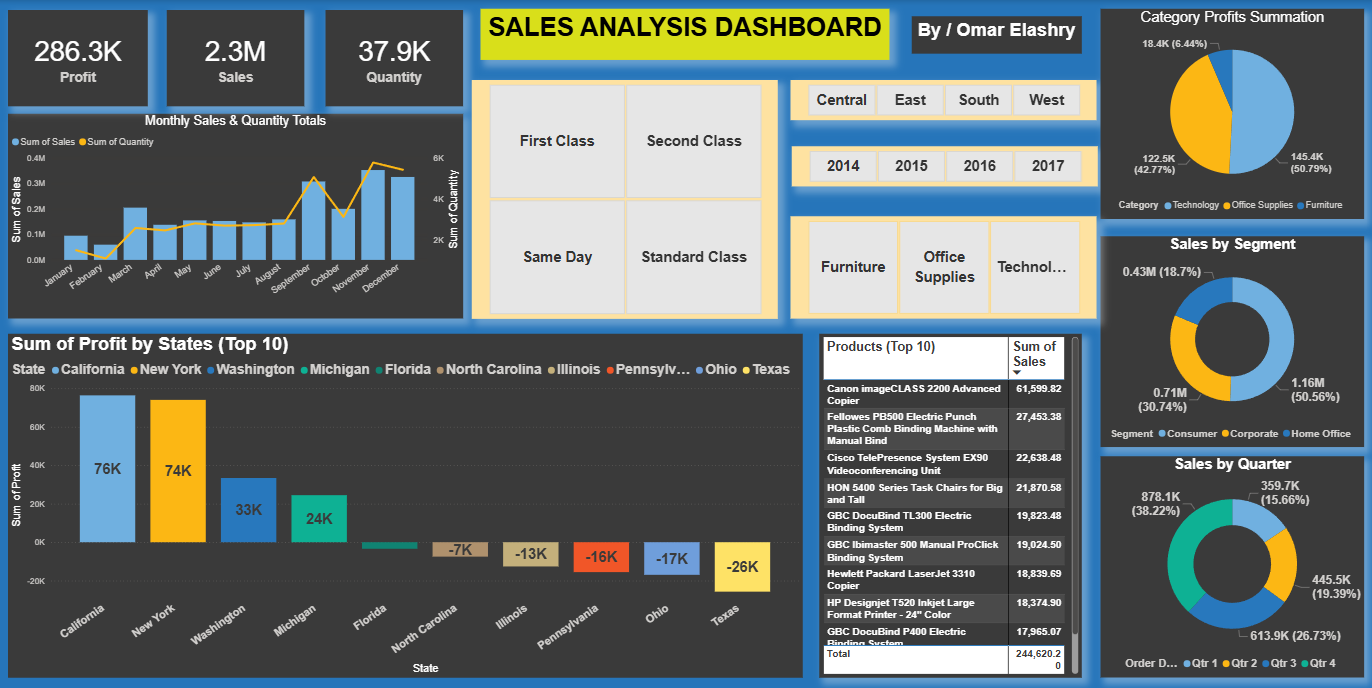

Layout of this report page (visuals, bound fields, positions):
{"tool":"powerbi","page":{"name":"Sales Analysis Dashboard","canvas":[2000,1000],"ordinal":0},"visuals":[{"type":"donutChart","title":"Sales by Segment","fields":{"Category":["sample_-_superstore xls - Orders.Segment"],"Y":["Sum(sample_-_superstore xls - Orders.Sales)"]},"box":[1602.5,343.3,383.4,306.4],"z":0},{"type":"slicer","fields":{"Values":["sample_-_superstore xls - Orders.Order Date.Variation.Date Hierarchy.Year"]},"box":[1153.7,212.6,445.1,58.1],"z":1000},{"type":"lineClusteredColumnComboChart","title":"Monthly Sales & Quantity Totals","fields":{"Category":["sample_-_superstore xls - Orders.Order Date.Variation.Date Hierarchy.Month"],"Y":["Sum(sample_-_superstore xls - Orders.Sales)"],"Y2":["Sum(sample_-_superstore xls - Orders.Quantity)"]},"box":[14.5,165.3,661.3,298],"z":2000},{"type":"tableEx","fields":{"Values":["sample_-_superstore xls - Orders.Product Name","Sum(sample_-_superstore xls - Orders.Sales)"]},"box":[1193.7,485.1,381.5,499.6],"z":3000},{"type":"textbox","box":[701.3,12.7,594.1,74.5],"z":4000},{"type":"card","fields":{"Values":["Sum(sample_-_superstore xls - Orders.Profit)"]},"box":[14.5,14.5,203.5,139.9],"z":5000},{"type":"card","fields":{"Values":["Sum(sample_-_superstore xls - Orders.Sales)"]},"box":[245.3,14.5,199.9,139.9],"z":6000},{"type":"slicer","fields":{"Values":["sample_-_superstore xls - Orders.Region"]},"box":[1151.9,116.3,445.1,58.1],"z":7000},{"type":"card","fields":{"Values":["Sum(sample_-_superstore xls - Orders.Quantity)"]},"box":[476,14.5,199.9,139.9],"z":8000},{"type":"pieChart","title":"Category Profits Summation","fields":{"Category":["sample_-_superstore xls - Orders.Category"],"Y":["Sum(sample_-_superstore xls - Orders.Profit)"]},"box":[1602.5,12.7,383.4,305.2],"z":9000},{"type":"donutChart","title":"Sales by Quarter","fields":{"Y":["Sum(sample_-_superstore xls - Orders.Sales)"],"Category":["sample_-_superstore xls - Orders.Order Date.Variation.Date Hierarchy.Quarter"]},"box":[1602.5,663.2,383.4,321.6],"z":10000},{"type":"columnChart","title":"Sum of Profit by States (Top 10)","fields":{"Category":["sample_-_superstore xls - Orders.State"],"Y":["Sum(sample_-_superstore xls - Orders.Profit)"],"Series":["sample_-_superstore xls - Orders.State"]},"box":[14.5,485.1,1155.5,499.6],"z":11000},{"type":"textbox","box":[1328.1,23.6,247.1,54.5],"z":12000},{"type":"slicer","fields":{"Values":["sample_-_superstore xls - Orders.Ship Mode"]},"box":[688.6,116.3,445.1,347],"z":13000},{"type":"slicer","fields":{"Values":["sample_-_superstore xls - Orders.Category"]},"box":[1151.9,314.3,445.1,149],"z":14000}]}

Visuals, with their boxes in screenshot pixels (x1, y1, x2, y2), scaled from the page's 2000x1000 canvas onto the 1372x688 screenshot:
"Sales by Segment" donutChart: x1=1099, y1=236, x2=1362, y2=447
slicer - sample_-_superstore xls - Orders.Order Date.Variation.Date Hierarchy.Year: x1=791, y1=146, x2=1097, y2=186
"Monthly Sales & Quantity Totals" lineClusteredColumnComboChart: x1=10, y1=114, x2=464, y2=319
tableEx - sample_-_superstore xls - Orders.Product Name x Sum(sample_-_superstore xls - Orders.Sales): x1=819, y1=334, x2=1081, y2=677
textbox: x1=481, y1=9, x2=889, y2=60
card - Sum(sample_-_superstore xls - Orders.Profit): x1=10, y1=10, x2=150, y2=106
card - Sum(sample_-_superstore xls - Orders.Sales): x1=168, y1=10, x2=305, y2=106
slicer - sample_-_superstore xls - Orders.Region: x1=790, y1=80, x2=1096, y2=120
card - Sum(sample_-_superstore xls - Orders.Quantity): x1=327, y1=10, x2=464, y2=106
"Category Profits Summation" pieChart: x1=1099, y1=9, x2=1362, y2=219
"Sales by Quarter" donutChart: x1=1099, y1=456, x2=1362, y2=678
"Sum of Profit by States (Top 10)" columnChart: x1=10, y1=334, x2=803, y2=677
textbox: x1=911, y1=16, x2=1081, y2=54
slicer - sample_-_superstore xls - Orders.Ship Mode: x1=472, y1=80, x2=778, y2=319
slicer - sample_-_superstore xls - Orders.Category: x1=790, y1=216, x2=1096, y2=319
